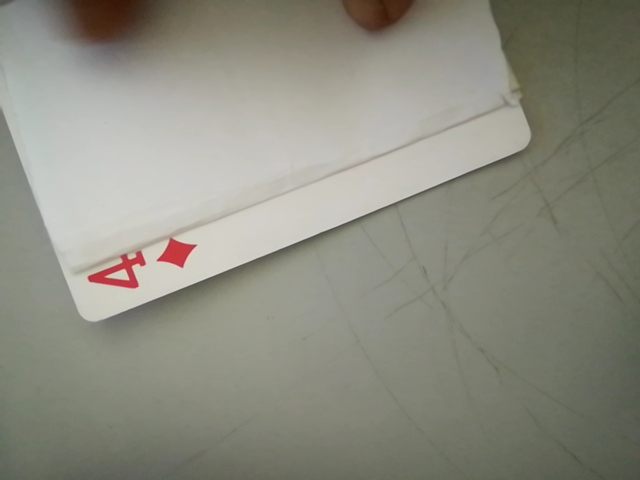fk 4: (76, 233, 203, 302)
